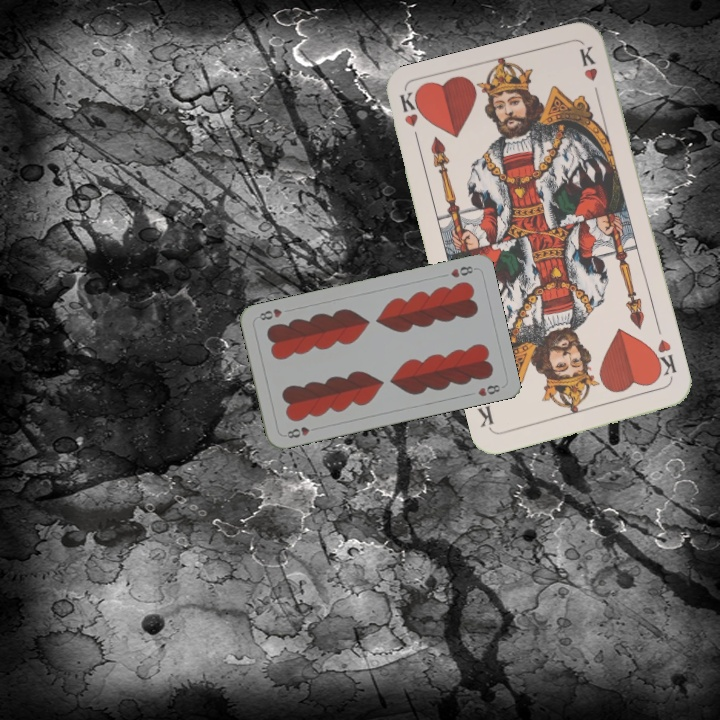H8: (283, 423, 321, 441), (446, 262, 478, 280)
HK: (395, 88, 424, 149), (647, 335, 679, 384)
